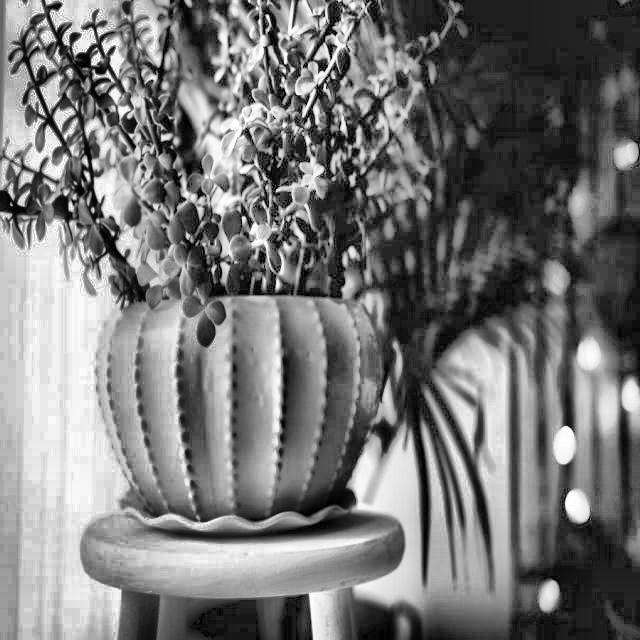plants: (11, 35, 442, 498)
